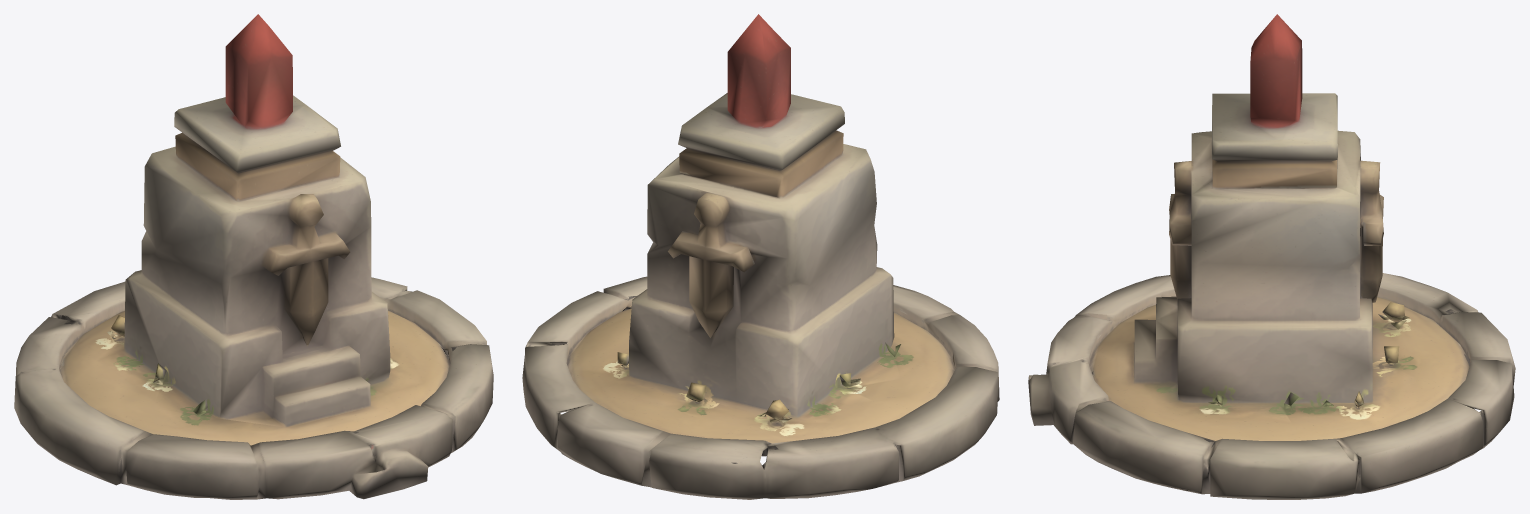
File: shrine_attack.glb
3 views of the same model, side by side, from view 1: azimuth 30°, elevation 25°; view 2: azimuth 150°, elevation 25°; view 3: azimuth 270°, elevation 25° (orthographic).
Parts seen in each view (by area): view 1: geometry_0.001; view 2: geometry_0.001; view 3: geometry_0.001.
Boxes of the visible parts, x1=… form: geometry_0.001: x1=14, y1=14, x2=493, y2=499; geometry_0.001: x1=522, y1=14, x2=999, y2=499; geometry_0.001: x1=1028, y1=14, x2=1515, y2=499.
Size of the model in its own units: 1.97 by 1.76 by 1.99.
1 material, 1 textured.
